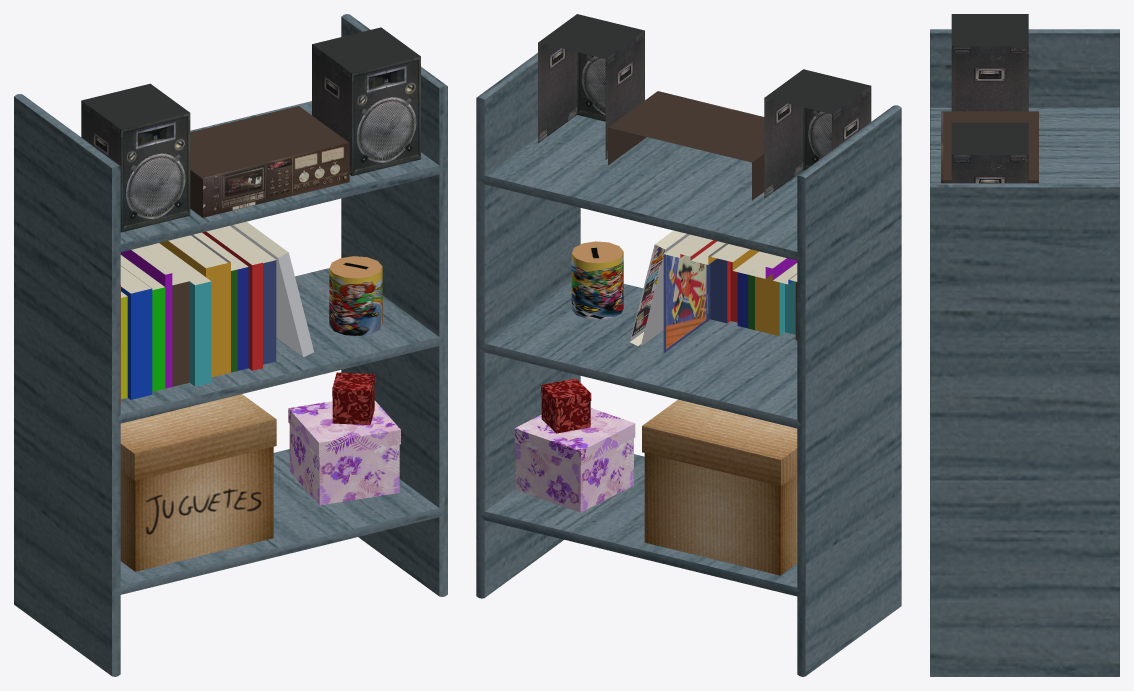
The model's file is Estanteria.DAE.
The picture shows the model from 3 angles, left to right: view 1: azimuth 30°, elevation 25°; view 2: azimuth 150°, elevation 25°; view 3: azimuth 270°, elevation 25°; orthographic projection. The views are drawn at different scales.
Visible parts, largest first — view 1: estanteria; view 2: estanteria; view 3: estanteria.
Boxes of the visible parts, x1,y1,x2,y2 form: estanteria: [14, 14, 447, 676]; estanteria: [476, 14, 901, 676]; estanteria: [930, 14, 1119, 676].
Bounding box in the file's own units: 8.21 × 4.17 × 12.49.
Materials: 1 (1 with a texture image).
